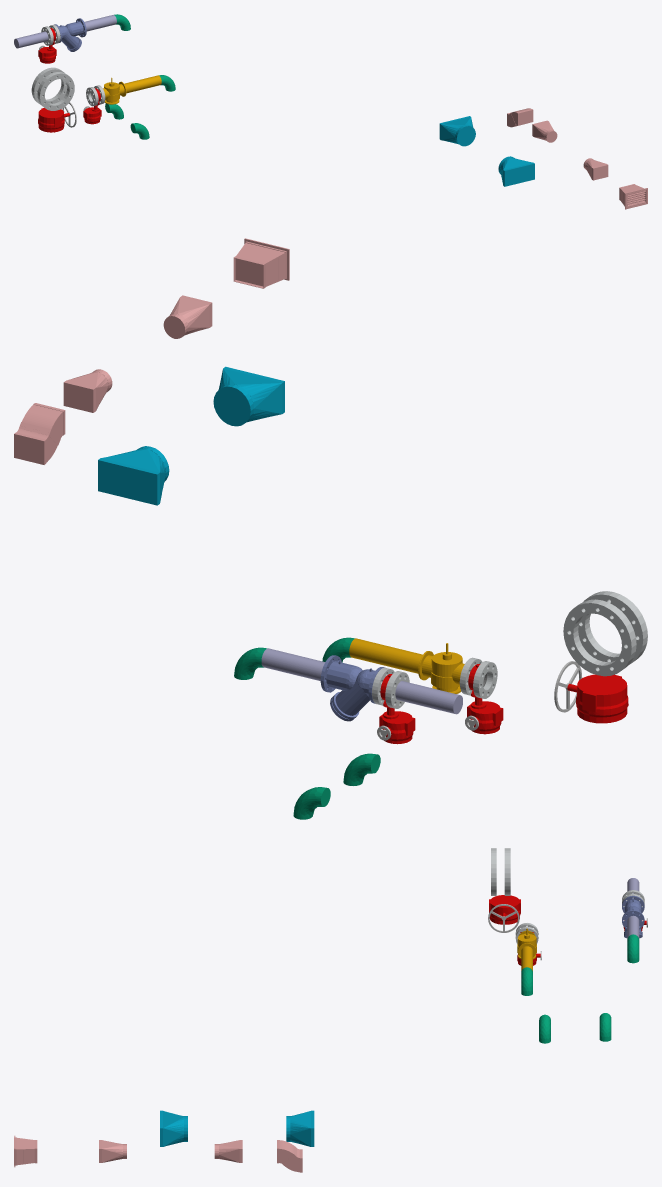
3 renders of one model, top to bottom at view 1: azimuth 30°, elevation 25°; view 2: azimuth 150°, elevation 25°; view 3: azimuth 270°, elevation 25°, orthographic. The views are drawn at different scales.
Size of the model in its own units: 5.37 by 1.35 by 6.12.
